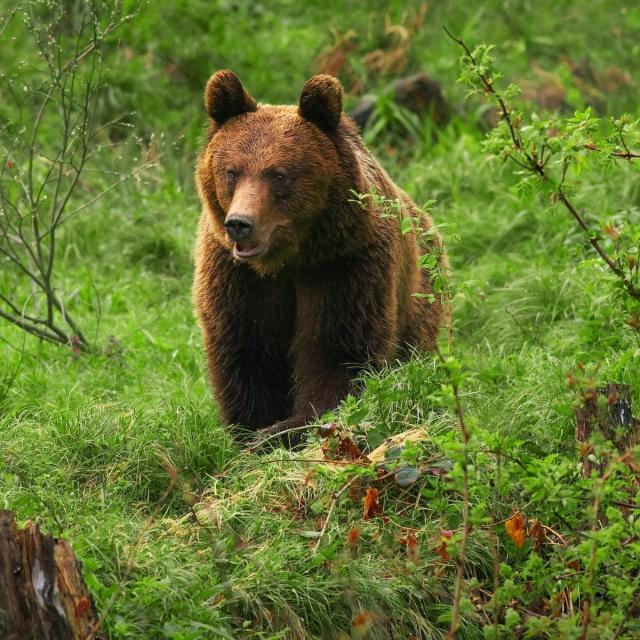Bear: (191, 70, 453, 434)
